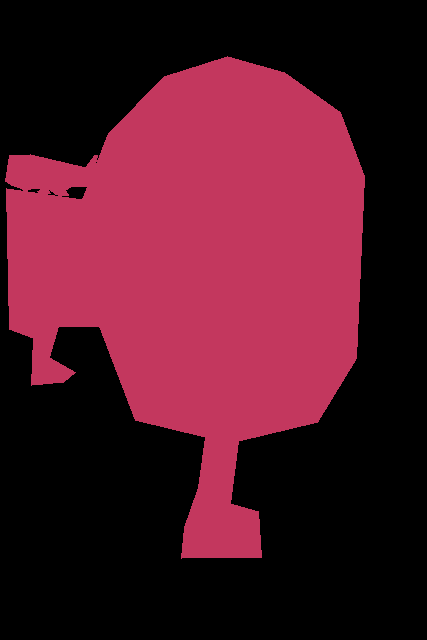Airplane: (6, 56, 364, 559), (5, 154, 98, 197)
